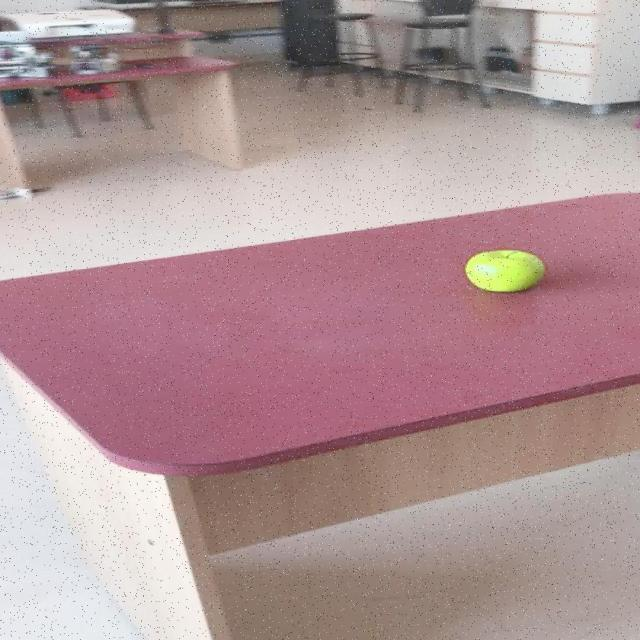Apple: (462, 249, 544, 291)
